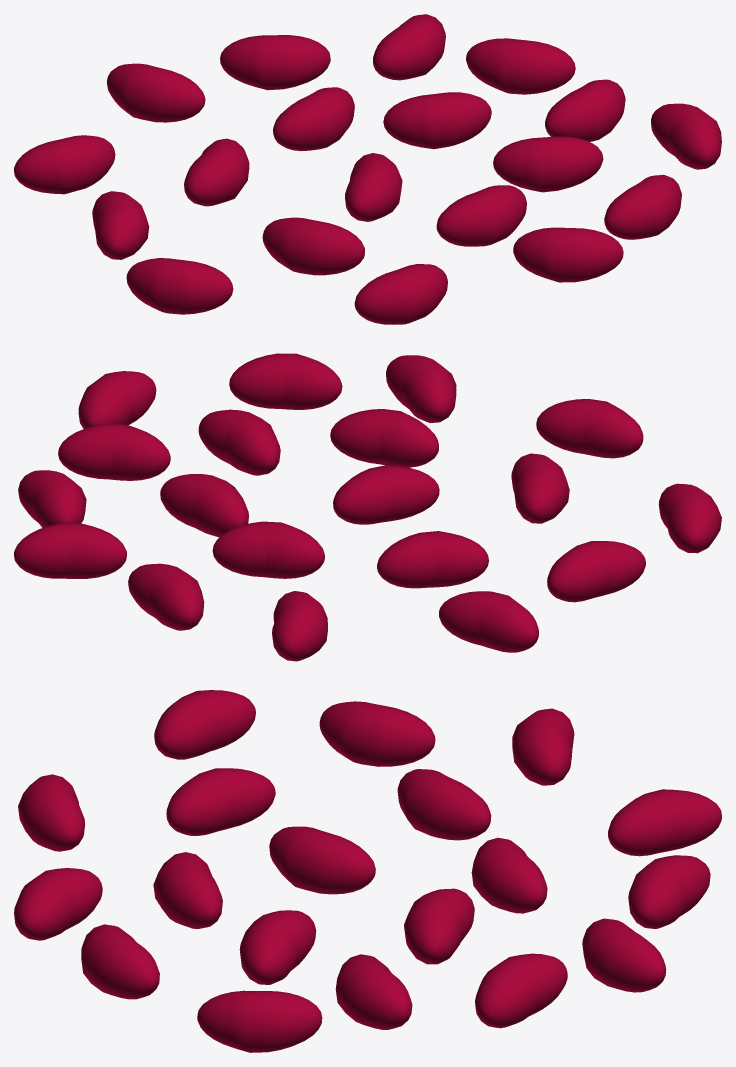
Rendered from mesh_Beans.fbx.
3 renders of one model, top to bottom at view 1: azimuth 30°, elevation 25°; view 2: azimuth 150°, elevation 25°; view 3: azimuth 270°, elevation 25°, orthographic. The views are drawn at different scales.
Visible parts, largest first — view 1: mesh_Bean_17, mesh_Bean_03, mesh_Bean_11, mesh_Bean_19, mesh_Bean_13, mesh_Bean_02, mesh_Bean_05, mesh_Bean_07, mesh_Bean_15, mesh_Bean_09, mesh_Bean_04, mesh_Bean_14 (+7 smaller); view 2: mesh_Bean_12, mesh_Bean_18, mesh_Bean_10, mesh_Bean_14, mesh_Bean_06, mesh_Bean_04, mesh_Bean_09, mesh_Beans, mesh_Bean_07, mesh_Bean_08, mesh_Bean_13, mesh_Bean_11 (+7 smaller); view 3: mesh_Bean_20, mesh_Bean_08, mesh_Bean_15, mesh_Bean_05, mesh_Beans, mesh_Bean_02, mesh_Bean_19, mesh_Bean_06, mesh_Bean_03, mesh_Bean_18, mesh_Bean_17, mesh_Bean_12 (+7 smaller).
Part boxes in pixels (left/top/right/bottom): mesh_Bean_17: left=220, top=35, right=330, bottom=90; mesh_Bean_03: left=513, top=227, right=623, bottom=282; mesh_Bean_11: left=493, top=136, right=603, bottom=192; mesh_Bean_19: left=466, top=38, right=575, bottom=94; mesh_Bean_13: left=383, top=92, right=491, bottom=149; mesh_Bean_02: left=126, top=258, right=233, bottom=314; mesh_Bean_05: left=262, top=217, right=364, bottom=275; mesh_Bean_07: left=14, top=135, right=115, bottom=194; mesh_Bean_15: left=106, top=63, right=205, bottom=122; mesh_Bean_09: left=354, top=264, right=447, bottom=324; mesh_Bean_04: left=436, top=185, right=526, bottom=246; mesh_Bean_14: left=273, top=87, right=354, bottom=151; mesh_Bean_12: left=229, top=353, right=342, bottom=409; mesh_Bean_18: left=14, top=523, right=126, bottom=578; mesh_Bean_10: left=58, top=424, right=170, bottom=480; mesh_Bean_14: left=212, top=521, right=324, bottom=578; mesh_Bean_06: left=377, top=531, right=488, bottom=588; mesh_Bean_04: left=330, top=409, right=438, bottom=467; mesh_Bean_09: left=536, top=399, right=643, bottom=458; mesh_Beans: left=333, top=465, right=439, bottom=524; mesh_Bean_07: left=439, top=591, right=538, bottom=652; mesh_Bean_08: left=547, top=541, right=645, bottom=602; mesh_Bean_13: left=160, top=474, right=248, bottom=537; mesh_Bean_11: left=198, top=409, right=280, bottom=475; mesh_Bean_20: left=197, top=990, right=322, bottom=1052; mesh_Bean_08: left=319, top=701, right=435, bottom=766; mesh_Bean_15: left=608, top=789, right=721, bottom=856; mesh_Bean_05: left=166, top=768, right=275, bottom=835; mesh_Beans: left=269, top=826, right=375, bottom=894; mesh_Bean_02: left=154, top=690, right=255, bottom=759; mesh_Bean_19: left=475, top=953, right=567, bottom=1028; mesh_Bean_06: left=397, top=769, right=491, bottom=840; mesh_Bean_03: left=14, top=868, right=102, bottom=940; mesh_Bean_18: left=582, top=918, right=666, bottom=992; mesh_Bean_17: left=628, top=855, right=710, bottom=928; mesh_Bean_12: left=81, top=924, right=159, bottom=999.
Size of the model in its own units: 0.2114 by 0.0169 by 0.1925.
